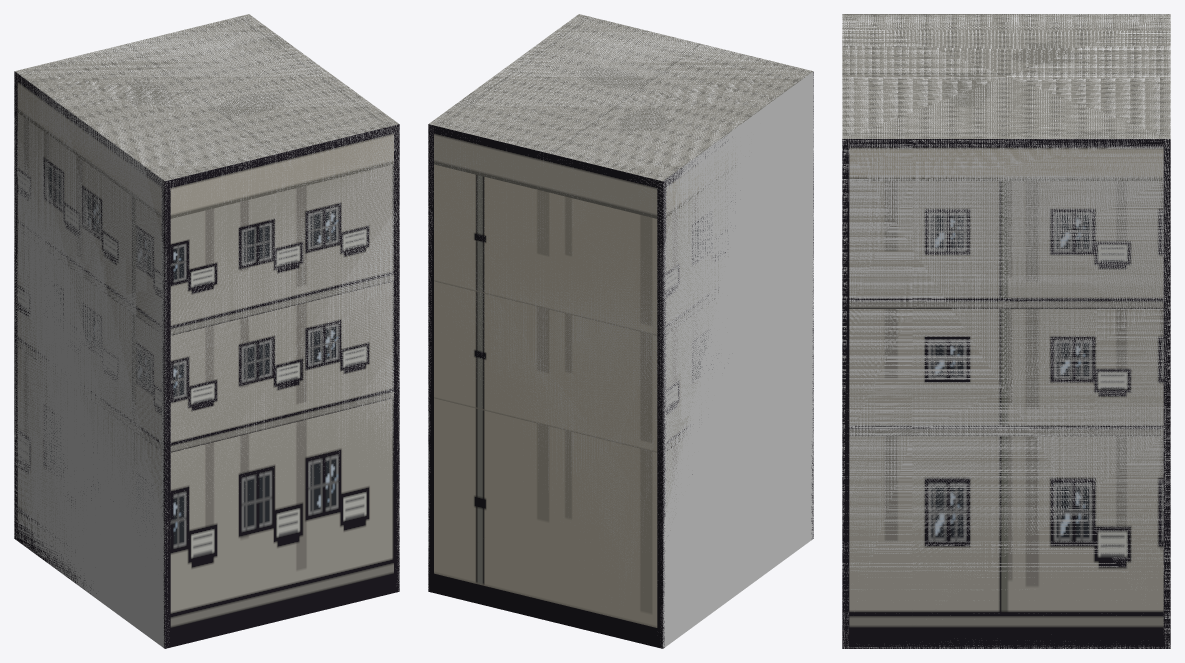
The picture shows the model from 3 angles, left to right: view 1: azimuth 30°, elevation 25°; view 2: azimuth 150°, elevation 25°; view 3: azimuth 270°, elevation 25°; orthographic projection. The views are drawn at different scales.
Visible parts, largest first — view 1: 19D-E12, COL_19D-E12_0; view 2: 19D-E12, COL_19D-E12_0; view 3: 19D-E12, COL_19D-E12_0.
Part boxes in pixels (box(x1,y1,x2,y2)): 19D-E12: box(14, 14, 399, 648); COL_19D-E12_0: box(14, 14, 399, 648); 19D-E12: box(428, 14, 813, 648); COL_19D-E12_0: box(428, 14, 813, 648); 19D-E12: box(842, 14, 1170, 648); COL_19D-E12_0: box(842, 14, 1170, 648).
Bounding box in the file's own units: 6.3 × 12 × 7.
1 material, 1 textured.
